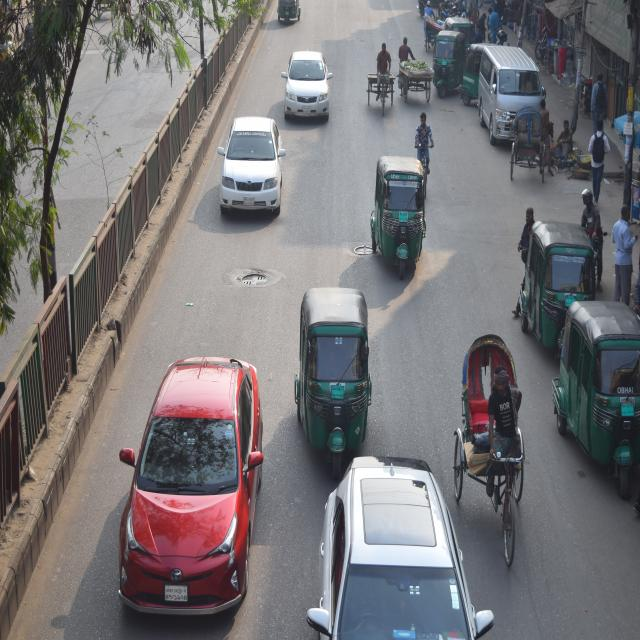car: (124, 351, 273, 620), (317, 453, 485, 640), (471, 50, 547, 162), (218, 110, 284, 234), (286, 46, 330, 126)
